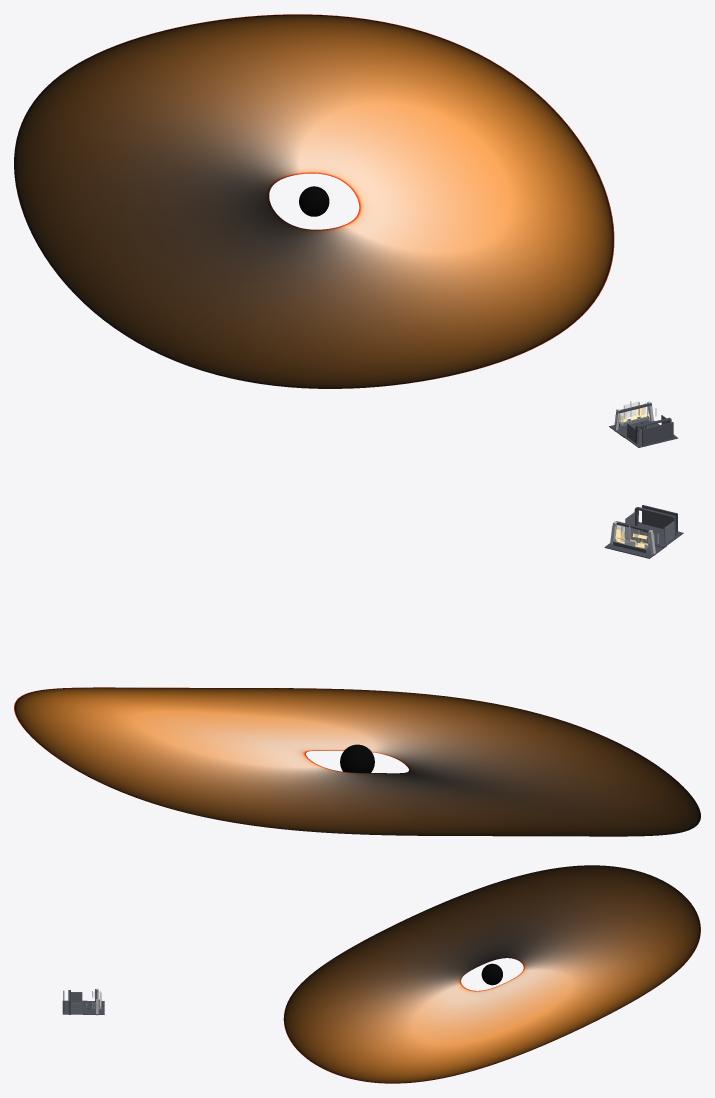
File: deck.glb
3 renders of one model, top to bottom at view 1: azimuth 30°, elevation 25°; view 2: azimuth 150°, elevation 25°; view 3: azimuth 270°, elevation 25°, orthographic. The views are drawn at different scales.
Parts seen in each view (by area): view 1: BH_AccretionDisk, BH_EventHorizon; view 2: BH_AccretionDisk, BH_EventHorizon; view 3: BH_AccretionDisk, BH_EventHorizon.
Boxes of the visible parts, x1,y1,x2,y2 form: BH_AccretionDisk: [14, 14, 614, 388]; BH_EventHorizon: [299, 186, 329, 216]; BH_AccretionDisk: [14, 687, 700, 836]; BH_EventHorizon: [340, 744, 374, 772]; BH_AccretionDisk: [283, 865, 700, 1083]; BH_EventHorizon: [481, 963, 502, 985].
Bounding box in the file's own units: 80 × 18.39 × 128.
9 materials, 1 textured.
